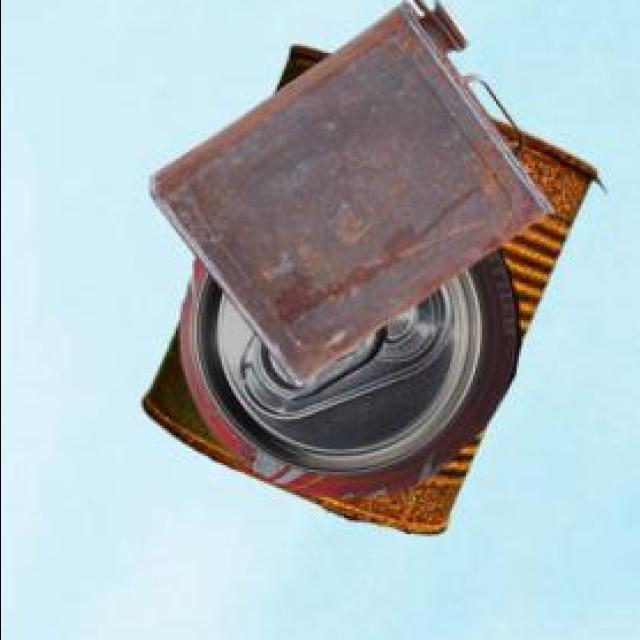logam: (146, 49, 600, 538), (153, 0, 556, 390), (183, 252, 524, 501)
